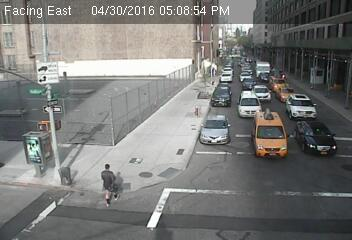neg: (57, 83, 79, 112), (204, 74, 213, 86)
pos: (89, 162, 124, 209)
